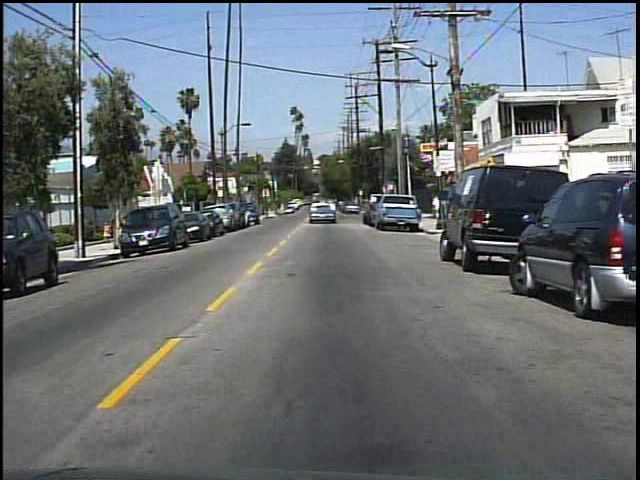person: (428, 194, 445, 224)
